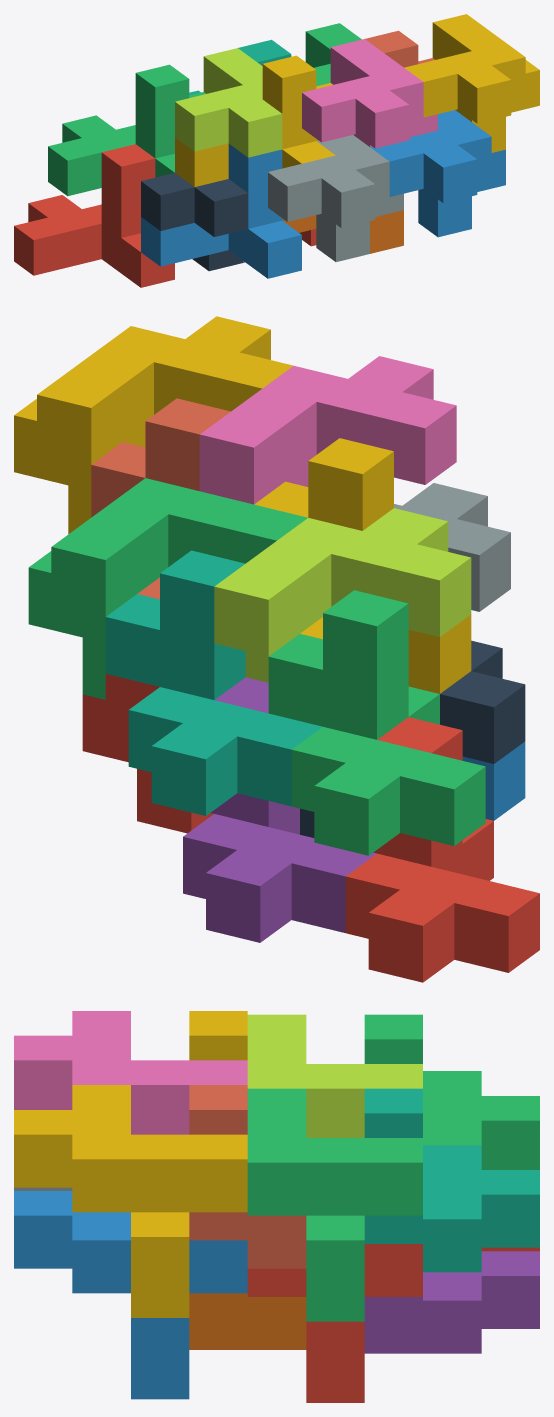
The model's file is tiling.obj.
3 views of the same model, one above another, from view 1: azimuth 30°, elevation 25°; view 2: azimuth 150°, elevation 25°; view 3: azimuth 270°, elevation 25° (orthographic). The views are drawn at different scales.
Parts seen in each view (by area): view 1: copy_1_domain_1, copy_2_domain_2, copy_2_domain_8, copy_2_domain_4, copy_2_domain_6, copy_1_domain_3, copy_1_domain_2, copy_2_domain_3, copy_1_domain_4, copy_2_domain_1, copy_2_domain_7, copy_1_domain_6 (+2 smaller); view 2: copy_1_domain_3, copy_1_domain_7, copy_2_domain_8, copy_1_domain_1, copy_2_domain_3, copy_2_domain_4, copy_2_domain_7, copy_1_domain_5, copy_1_domain_4, copy_1_domain_8, copy_2_domain_1, copy_2_domain_2 (+2 smaller); view 3: copy_2_domain_8, copy_2_domain_7, copy_2_domain_6, copy_1_domain_7, copy_2_domain_4, copy_1_domain_5, copy_1_domain_3, copy_2_domain_3, copy_2_domain_5, copy_1_domain_8, copy_1_domain_6, copy_1_domain_4.
Boxes of the visible parts, box(x1,y1,x2,y2) form: copy_1_domain_1: box(14, 144, 174, 287); copy_2_domain_2: box(268, 135, 403, 261); copy_2_domain_8: box(404, 14, 539, 152); copy_2_domain_4: box(302, 39, 437, 148); copy_2_domain_6: box(370, 110, 505, 237); copy_1_domain_3: box(48, 64, 205, 196); copy_1_domain_2: box(141, 144, 301, 278); copy_2_domain_3: box(175, 48, 282, 157); copy_1_domain_4: box(175, 55, 335, 186); copy_2_domain_1: box(141, 173, 248, 271); copy_2_domain_7: box(305, 23, 361, 86); copy_1_domain_6: box(282, 210, 403, 253); copy_1_domain_3: box(268, 590, 485, 855); copy_1_domain_7: box(105, 550, 322, 815); copy_2_domain_8: box(14, 316, 293, 534); copy_1_domain_1: box(345, 717, 539, 982); copy_2_domain_3: box(214, 508, 471, 682); copy_2_domain_4: box(199, 356, 456, 504); copy_2_domain_7: box(28, 478, 307, 699); copy_1_domain_5: box(183, 677, 376, 942); copy_1_domain_4: box(254, 438, 471, 693); copy_1_domain_8: box(91, 398, 230, 599); copy_2_domain_1: box(300, 640, 525, 837); copy_2_domain_2: box(394, 483, 510, 611); copy_2_domain_8: box(14, 1085, 247, 1317); copy_2_domain_7: box(247, 1088, 422, 1321); copy_2_domain_6: box(14, 1191, 247, 1399); copy_1_domain_7: box(364, 1088, 539, 1272); copy_2_domain_4: box(14, 1011, 247, 1134); copy_1_domain_5: box(364, 1251, 539, 1353); copy_1_domain_3: box(364, 1014, 539, 1169); copy_2_domain_3: box(247, 1014, 422, 1137); copy_2_domain_5: box(247, 1244, 422, 1402); copy_1_domain_8: box(189, 1085, 306, 1268); copy_1_domain_6: box(189, 1293, 306, 1349); copy_1_domain_4: box(189, 1011, 247, 1060).
Bounding box in the file's own units: 12 × 6 × 9.
